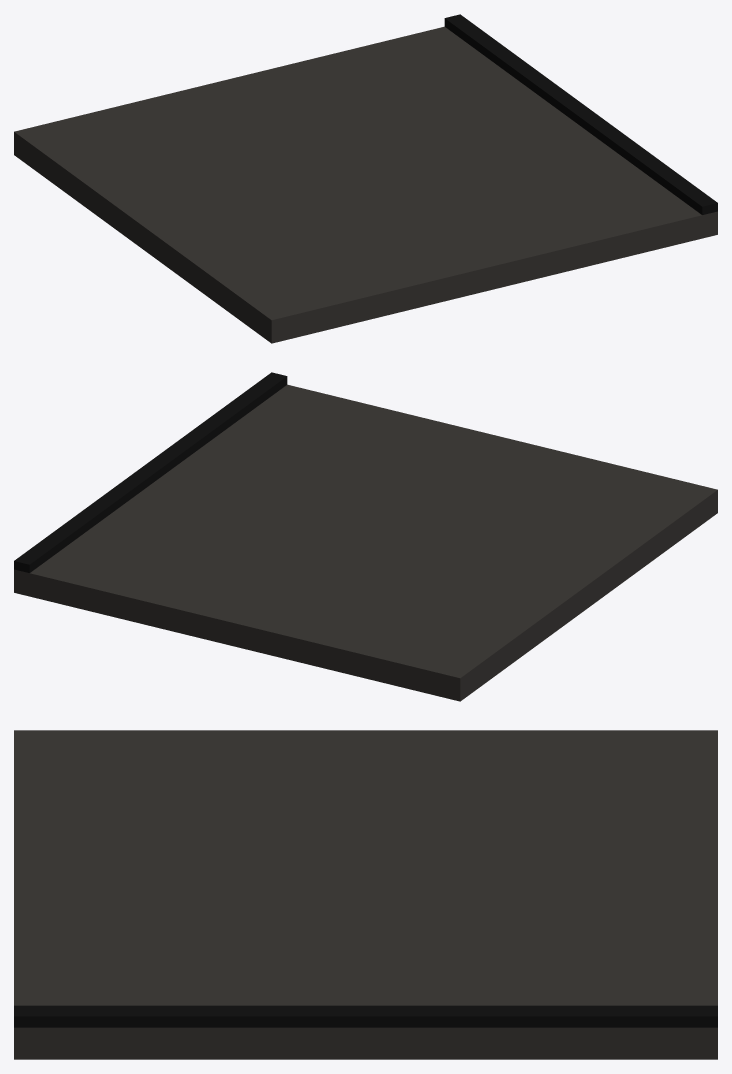
The model's file is SM_Factory_Ground_03.glb.
3 views of the same model, one above another, from view 1: azimuth 30°, elevation 25°; view 2: azimuth 150°, elevation 25°; view 3: azimuth 270°, elevation 25° (orthographic). The views are drawn at different scales.
Parts seen in each view (by area): view 1: SM_Factory_Ground_03; view 2: SM_Factory_Ground_03; view 3: SM_Factory_Ground_03.
Part boxes in pixels (x1,y1,x2,y2): SM_Factory_Ground_03: (14, 14, 717, 343); SM_Factory_Ground_03: (14, 372, 717, 701); SM_Factory_Ground_03: (14, 730, 717, 1059).
Size of the model in its own units: 5 by 0.3407 by 5.
Materials: 1 (1 with a texture image).
